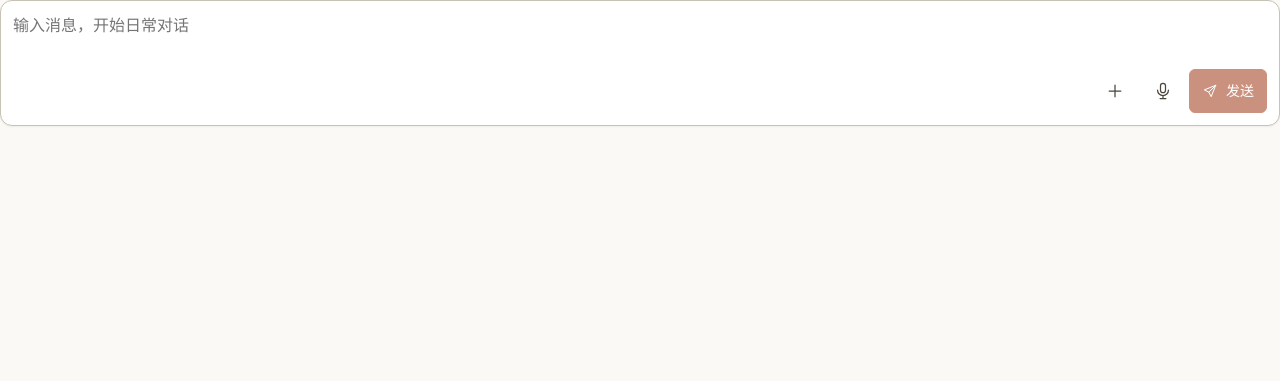
Composer 显式模块菜单（V2 Issue 11） › 键盘可完成打开、移动与激活，Esc 关闭后焦点回到 `+`
Press ArrowDown in the button named "添加功能或文件", box x1=1093 y1=69 x2=1137 y2=113
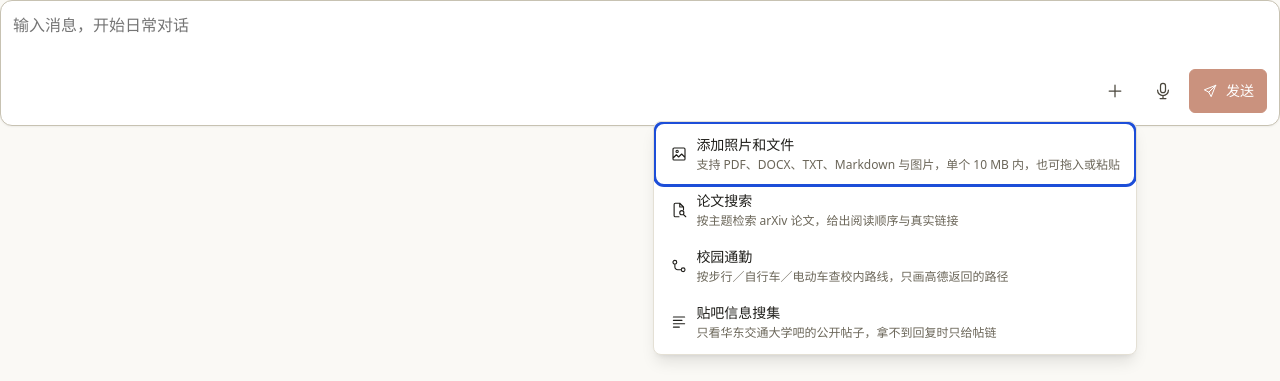
Press ArrowDown in the menu item "添加照片和文件 支持 PDF、DOCX、TXT、Markdown 与图片，单个 10 MB 内，也可拖入或粘贴", box x1=658 y1=126 x2=1132 y2=182
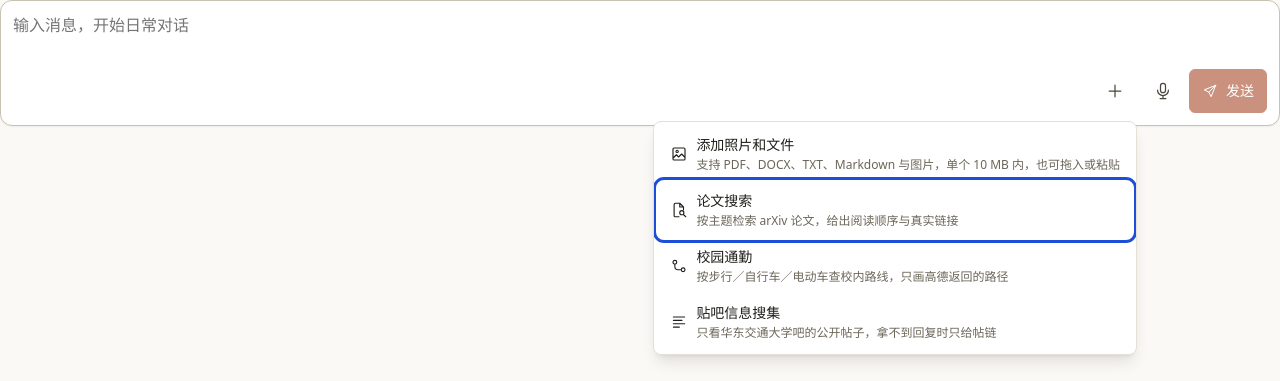
Click the menu item "论文搜索 按主题检索 arXiv 论文，给出阅读顺序与真实链接": (895, 210) x1=658 y1=182 x2=1132 y2=238
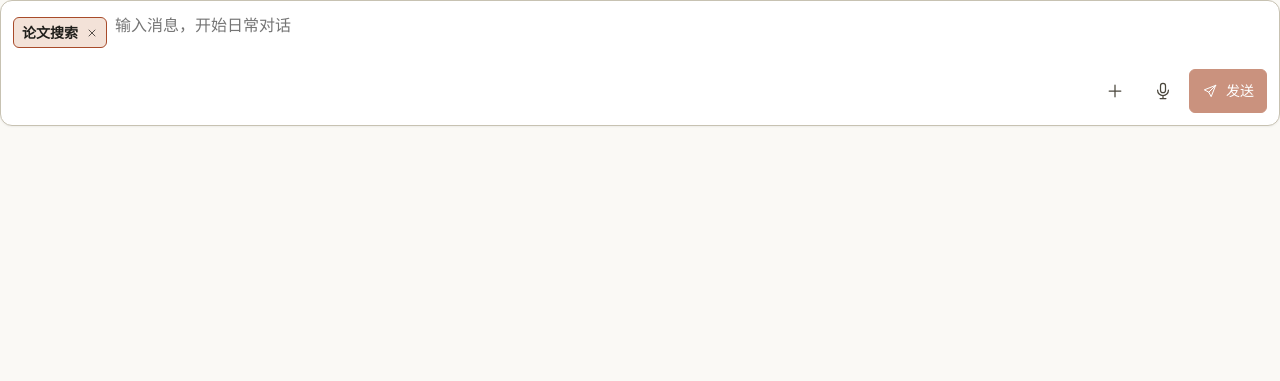
Result: the element with test id "composer-module-chip" reads "论文搜索" at x1=22 y1=23 x2=78 y2=42
# 重新打开后 Esc：菜单关闭且焦点归还触发按钮（归还发生在下一帧）。
Press ArrowDown in the button named "添加功能或文件", box x1=1093 y1=69 x2=1137 y2=113
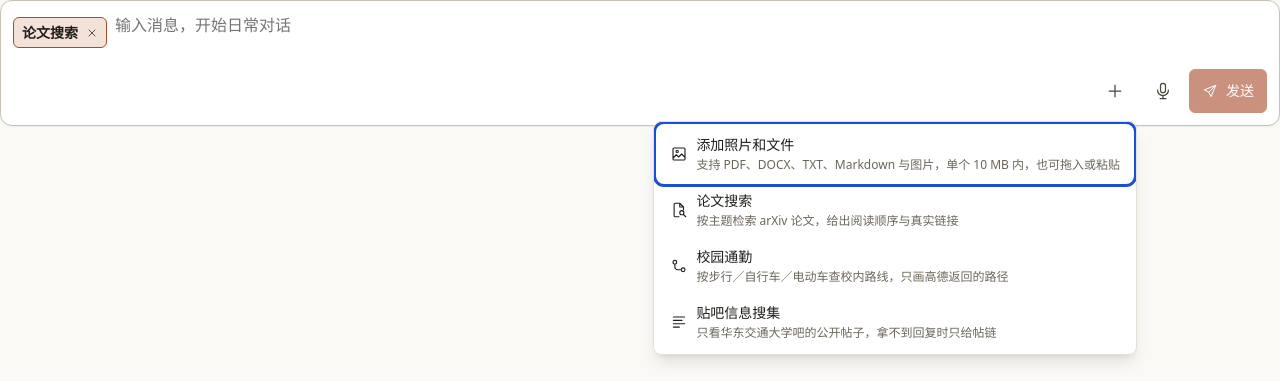
Press Escape in the menu item "添加照片和文件 支持 PDF、DOCX、TXT、Markdown 与图片，单个 10 MB 内，也可拖入或粘贴", box x1=658 y1=126 x2=1132 y2=182
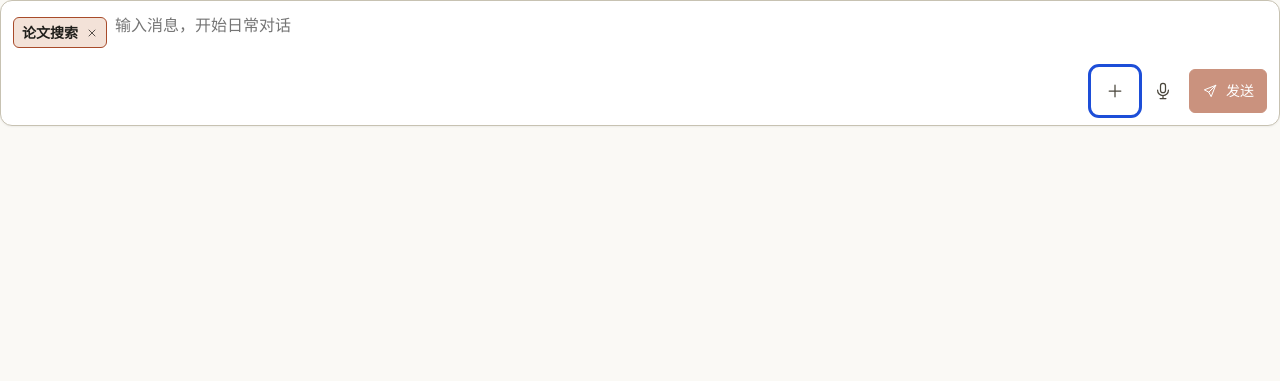
Result: the menu is gone
